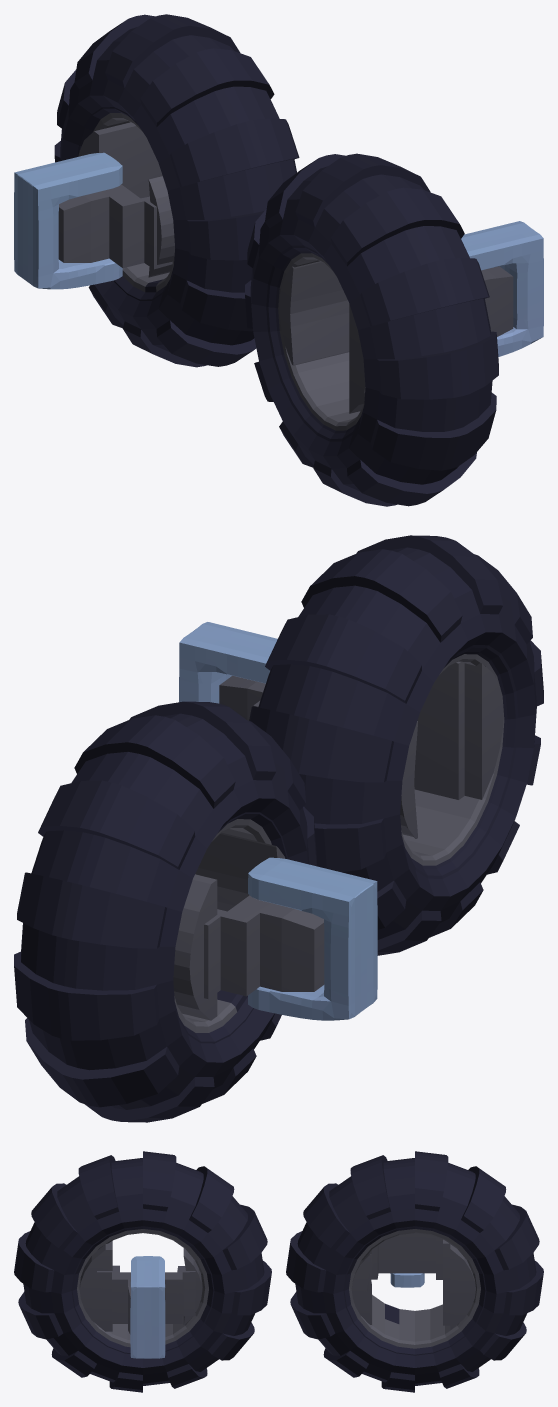
File: Rodas_Infladas.fbx
3 views of the same model, one above another, from view 1: azimuth 30°, elevation 25°; view 2: azimuth 150°, elevation 25°; view 3: azimuth 270°, elevation 25° (orthographic). The views are drawn at different scales.
Visible parts, largest first — view 1: Roda_Inflada_Direita, Roda_Inflada_Esquerda, Roda_Inflada_Esquerda_Heixo, Roda_Inflada_DIreita_Pivot, Roda_Inflada_Direita._Heixo, Roda_Inflada_Esquerda_Pivot; view 2: Roda_Inflada_Esquerda, Roda_Inflada_Direita, Roda_Inflada_Esquerda_Heixo, Roda_Inflada_DIreita_Pivot, Roda_Inflada_Direita._Heixo, Roda_Inflada_Esquerda_Pivot; view 3: Roda_Inflada_Esquerda, Roda_Inflada_Direita, Roda_Inflada_Esquerda_Heixo, Roda_Inflada_Direita._Heixo, Roda_Inflada_Esquerda_Pivot, Roda_Inflada_DIreita_Pivot.
Part boxes in pixels (bbox=[...]): Roda_Inflada_Direita: bbox=[245, 153, 498, 506]; Roda_Inflada_Esquerda: bbox=[54, 14, 299, 367]; Roda_Inflada_Esquerda_Heixo: bbox=[58, 122, 174, 277]; Roda_Inflada_DIreita_Pivot: bbox=[14, 152, 122, 289]; Roda_Inflada_Direita._Heixo: bbox=[279, 261, 513, 413]; Roda_Inflada_Esquerda_Pivot: bbox=[461, 221, 543, 356]; Roda_Inflada_Esquerda: bbox=[14, 701, 316, 1122]; Roda_Inflada_Direita: bbox=[249, 535, 543, 955]; Roda_Inflada_Esquerda_Heixo: bbox=[173, 832, 324, 1020]; Roda_Inflada_DIreita_Pivot: bbox=[248, 857, 377, 1020]; Roda_Inflada_Direita._Heixo: bbox=[219, 661, 503, 838]; Roda_Inflada_Esquerda_Pivot: bbox=[179, 622, 277, 703]; Roda_Inflada_Esquerda: bbox=[286, 1151, 543, 1392]; Roda_Inflada_Direita: bbox=[14, 1151, 271, 1392]; Roda_Inflada_Esquerda_Heixo: bbox=[351, 1233, 475, 1329]; Roda_Inflada_Direita._Heixo: bbox=[79, 1241, 202, 1334]; Roda_Inflada_Esquerda_Pivot: bbox=[130, 1256, 165, 1358]; Roda_Inflada_DIreita_Pivot: bbox=[390, 1273, 424, 1287].
Size of the model in its own units: 137 by 131 by 270.
